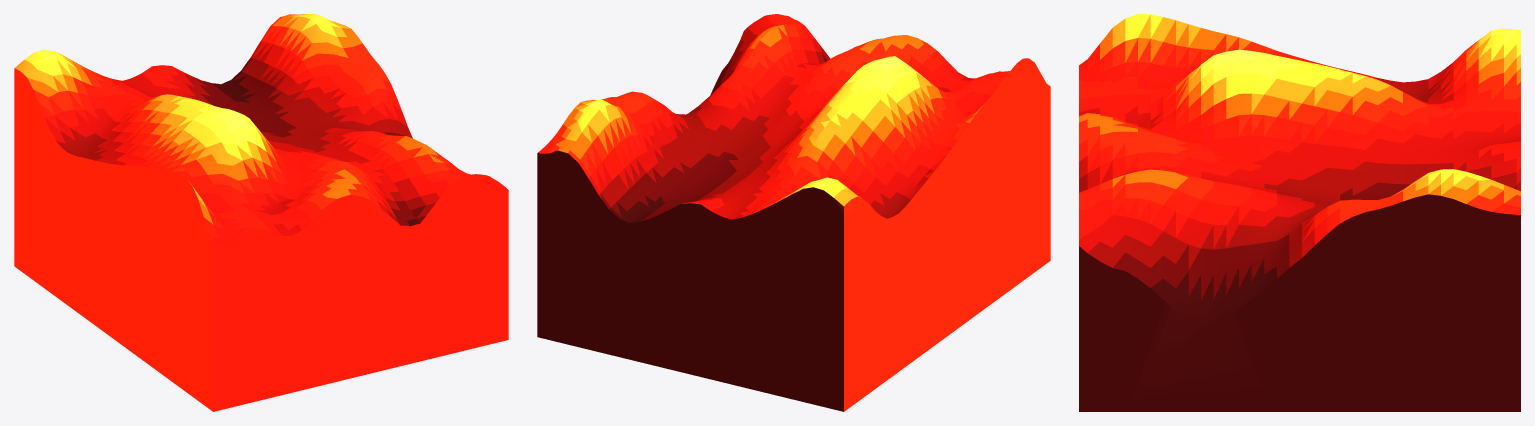
Rendered from core_fire_99.glb.
The picture shows the model from 3 angles, left to right: view 1: azimuth 30°, elevation 25°; view 2: azimuth 150°, elevation 25°; view 3: azimuth 270°, elevation 25°; orthographic projection. The views are drawn at different scales.
Parts seen in each view (by area): view 1: core_fire_99_fire; view 2: core_fire_99_fire; view 3: core_fire_99_fire.
Boxes of the visible parts, x1=… form: core_fire_99_fire: x1=14, y1=14, x2=508, y2=411; core_fire_99_fire: x1=537, y1=14, x2=1050, y2=411; core_fire_99_fire: x1=1079, y1=14, x2=1520, y2=411.
Bounding box in the file's own units: 18 × 13.13 × 21.
